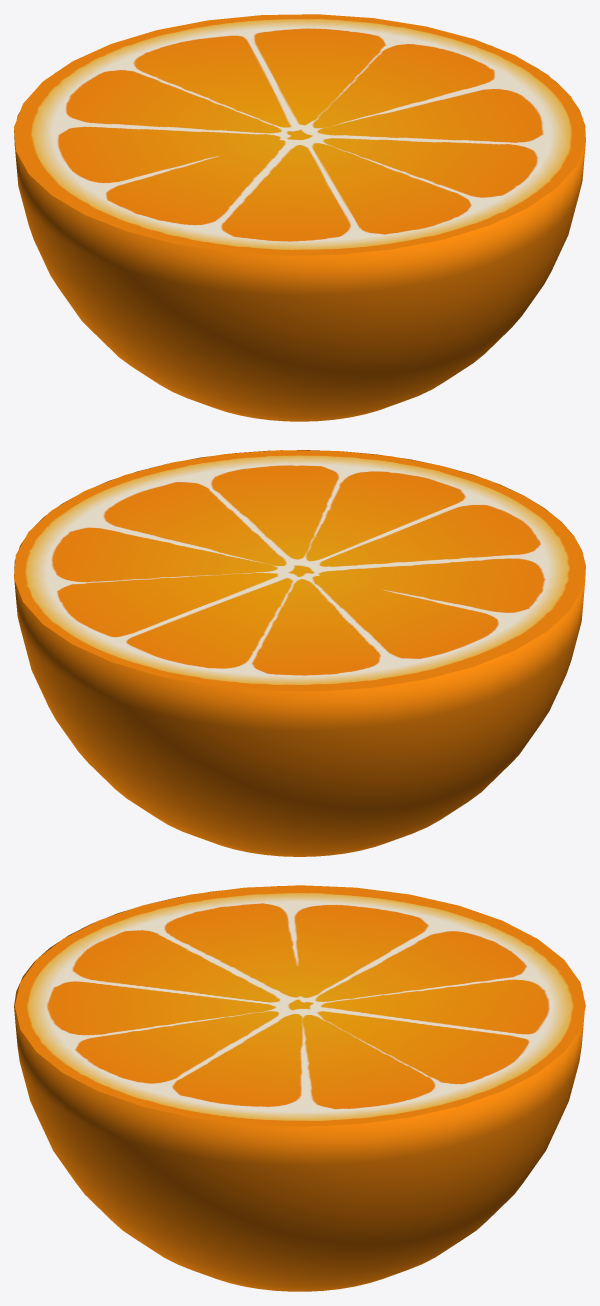
File: orange-2.fbx
The picture shows the model from 3 angles, top to bottom: view 1: azimuth 30°, elevation 25°; view 2: azimuth 150°, elevation 25°; view 3: azimuth 270°, elevation 25°; orthographic projection.
Visible parts, largest first — view 1: Sphere; view 2: Sphere; view 3: Sphere.
Boxes of the visible parts, x1=… form: Sphere: x1=14, y1=14, x2=585, y2=421; Sphere: x1=14, y1=450, x2=585, y2=856; Sphere: x1=14, y1=885, x2=585, y2=1291.
Size of the model in its own units: 200 by 100 by 200.
